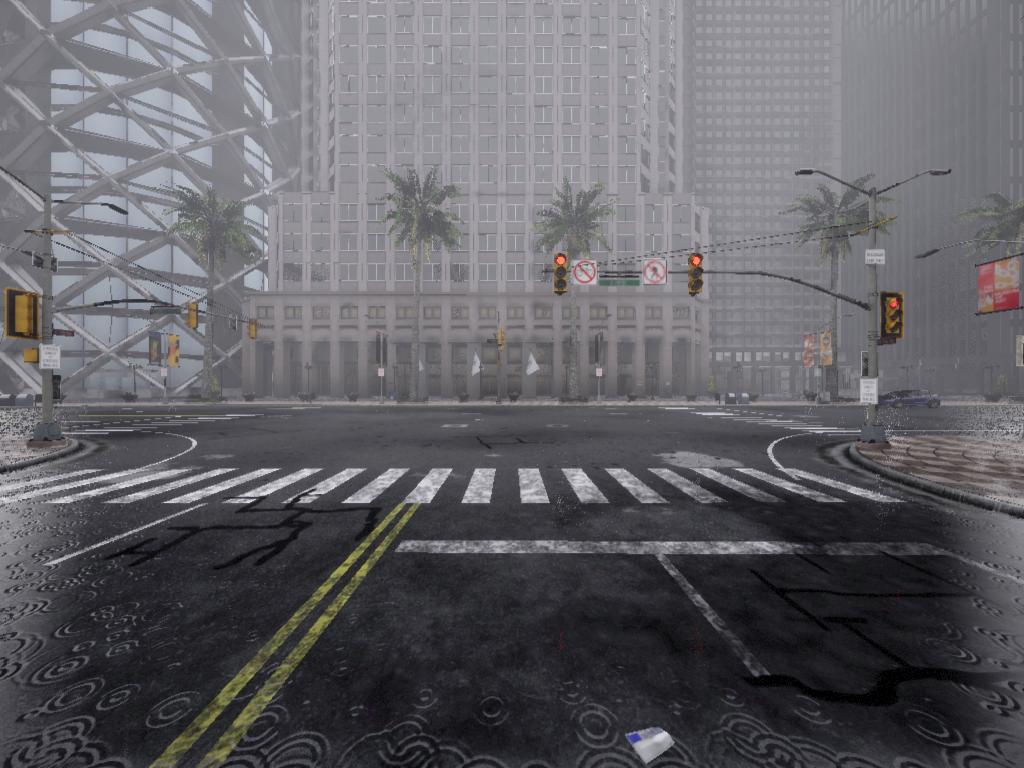traffic_light: (12, 295, 43, 339), (883, 294, 906, 343), (687, 254, 706, 298), (553, 255, 571, 294), (189, 302, 205, 332), (248, 320, 261, 340), (864, 353, 875, 375), (496, 327, 507, 348)
